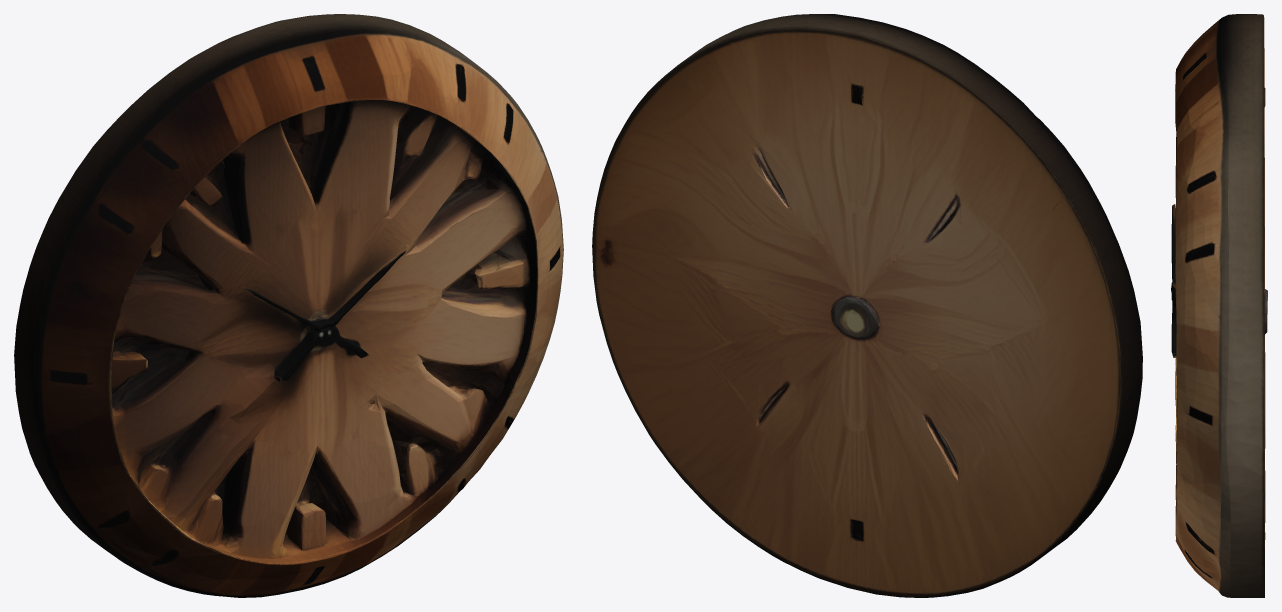
File: wooden-wall-clock-futuristic.jpeg.glb
The picture shows the model from 3 angles, left to right: view 1: azimuth 30°, elevation 25°; view 2: azimuth 150°, elevation 25°; view 3: azimuth 270°, elevation 25°; orthographic projection. The views are drawn at different scales.
Visible parts, largest first — view 1: world; view 2: world; view 3: world.
Part boxes in pixels (left/top/right/bottom): world: left=14, top=14, right=563, bottom=597; world: left=592, top=14, right=1142, bottom=597; world: left=1171, top=14, right=1267, bottom=597.
Bounding box in the file's own units: 0.9996 × 0.9986 × 0.1659.
Materials: 1 (1 with a texture image).
